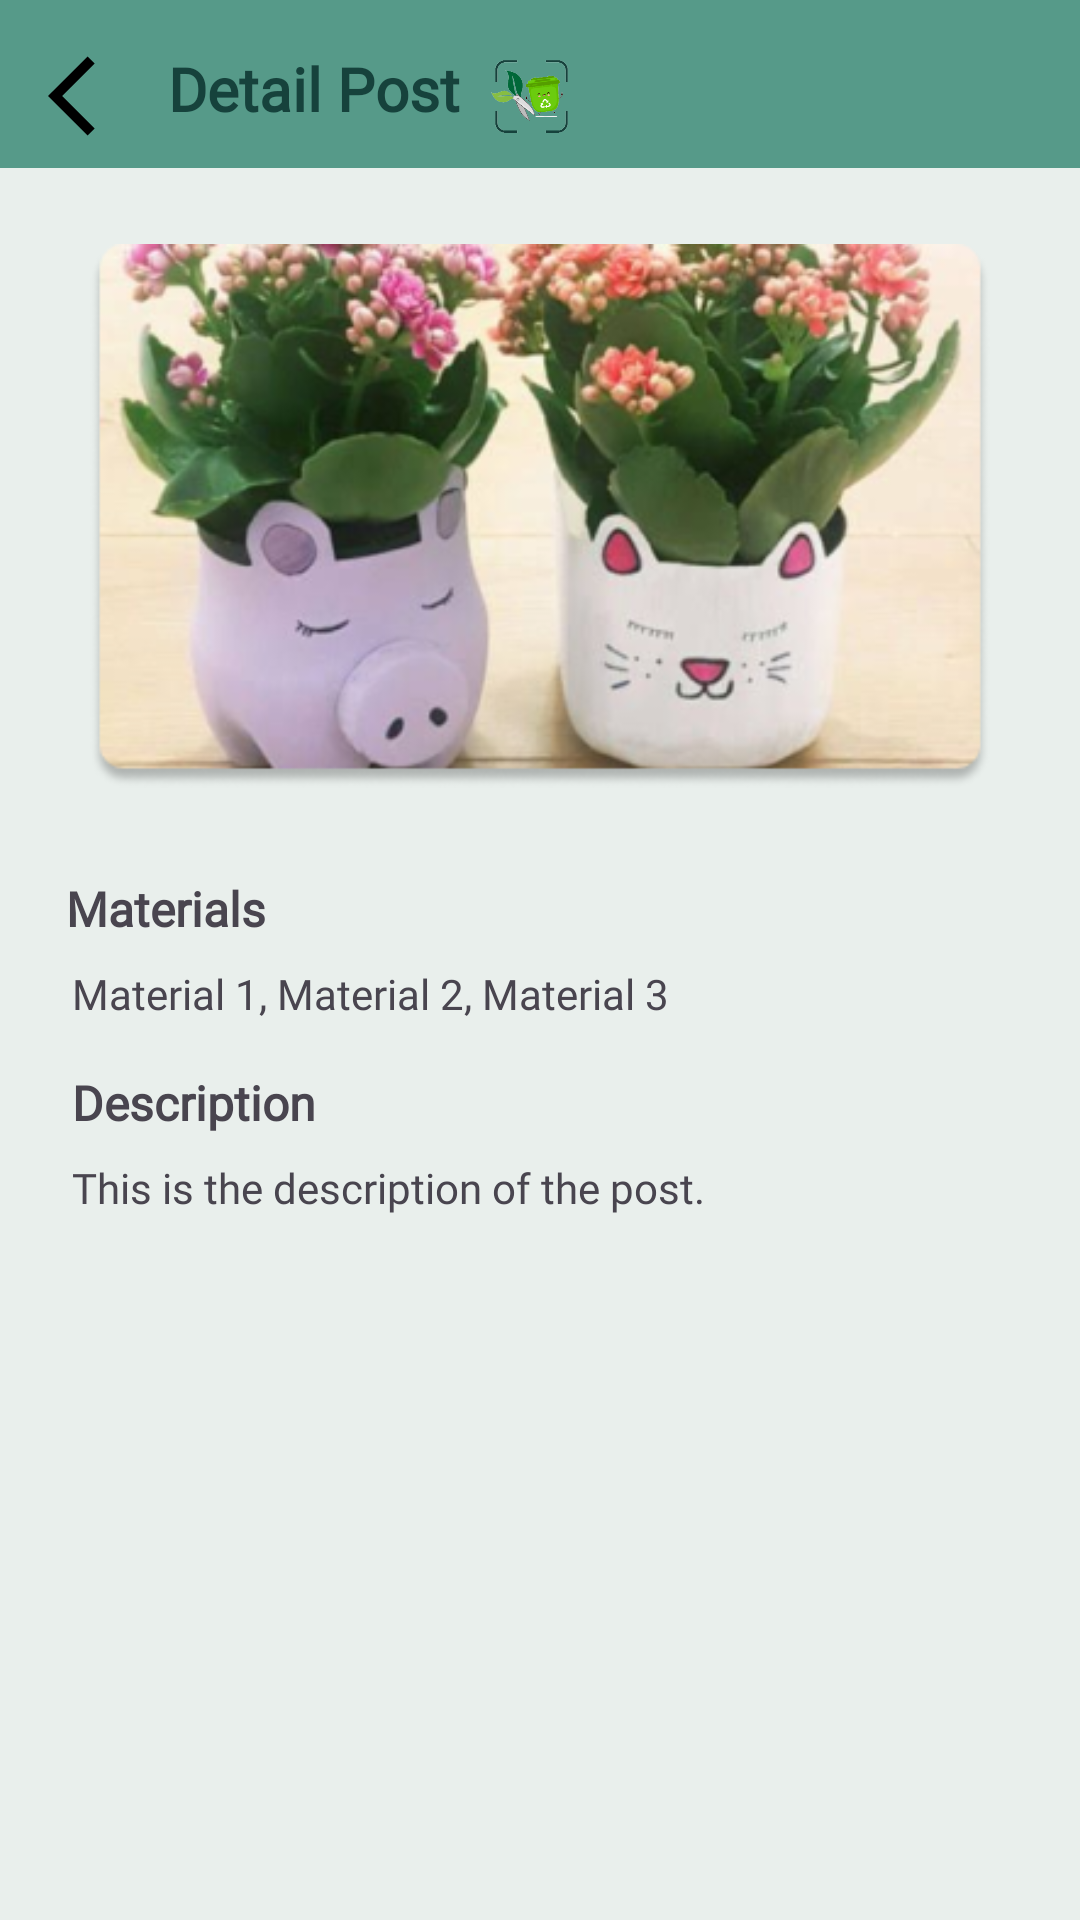

Named icons in this screenshot (1080x1920) and their bounding boxes, (x1, y1, x2, y2):
Back: (48, 56, 95, 136)
